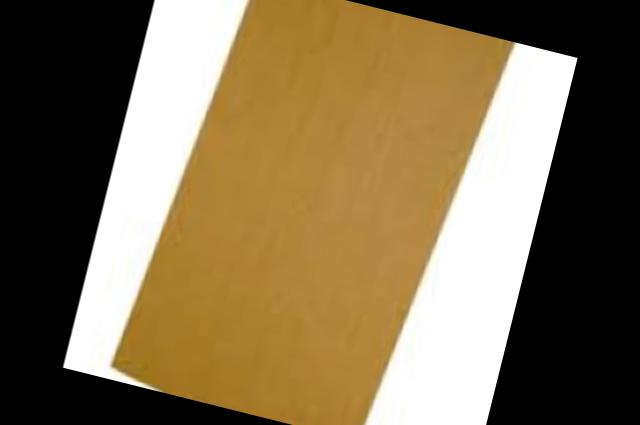cardboard paper: (109, 0, 507, 425)
